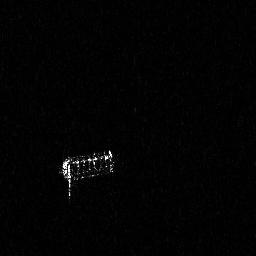ship: (59, 147, 117, 203)
